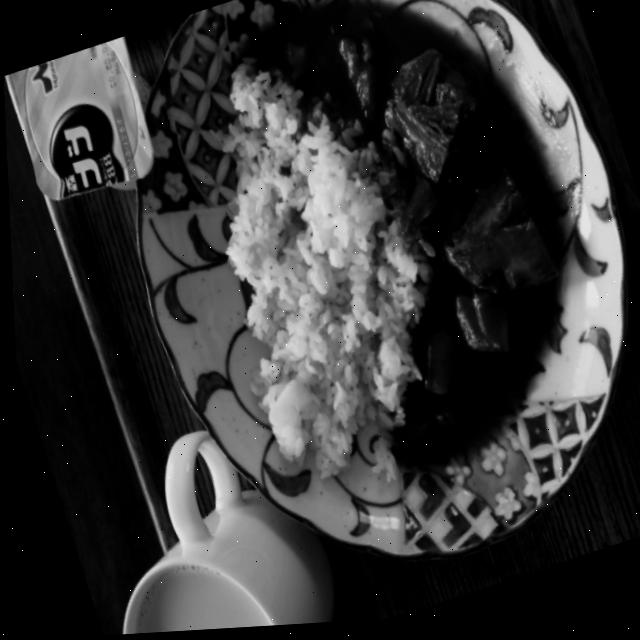牛肉菜式: (27, 0, 640, 639)
